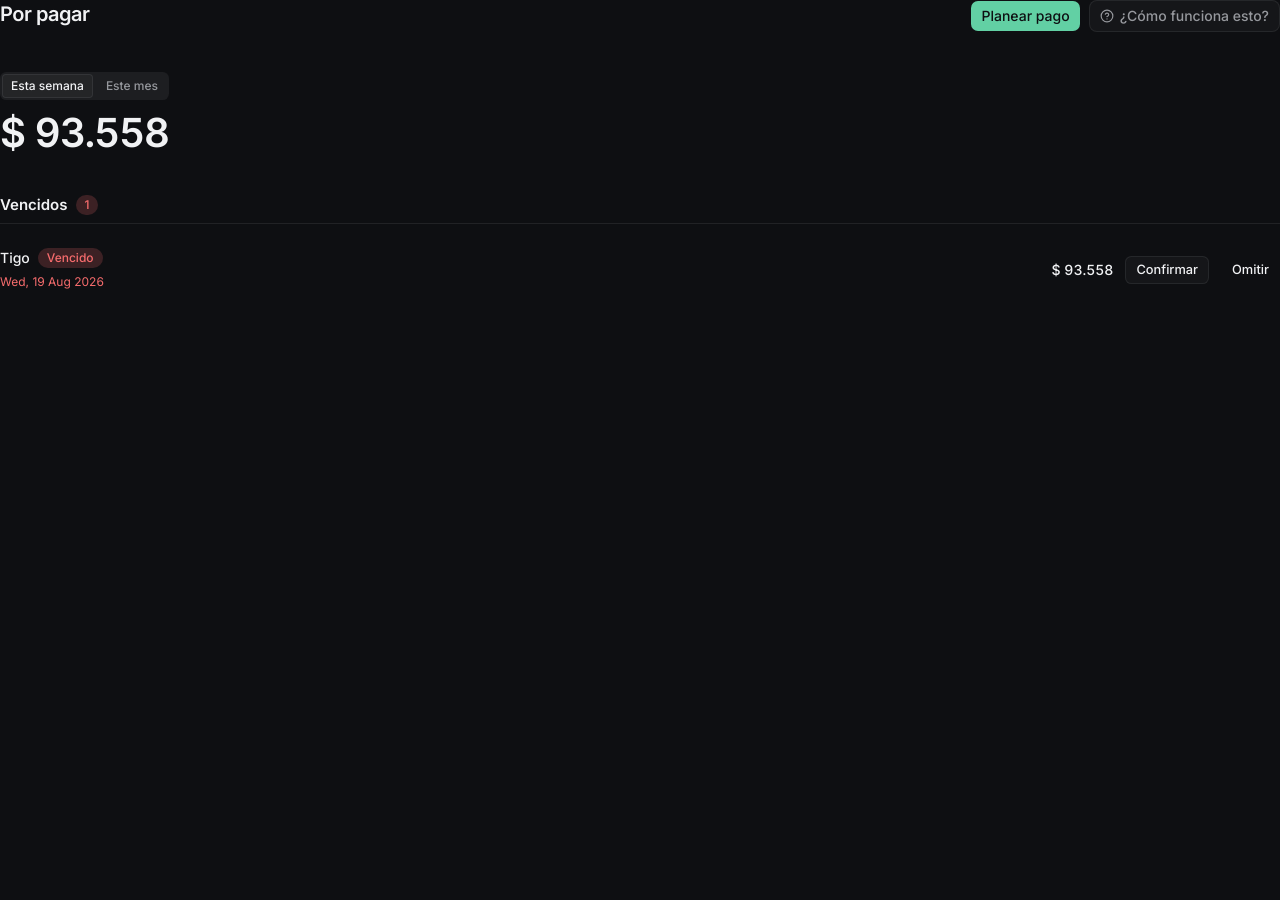
Test case: 012 — a currency passed through charges nothing › The figure comes back as the payment holds it after a trip through dollars
Click the button "Confirmar" at (1167, 270), box [1125,256,1209,284]
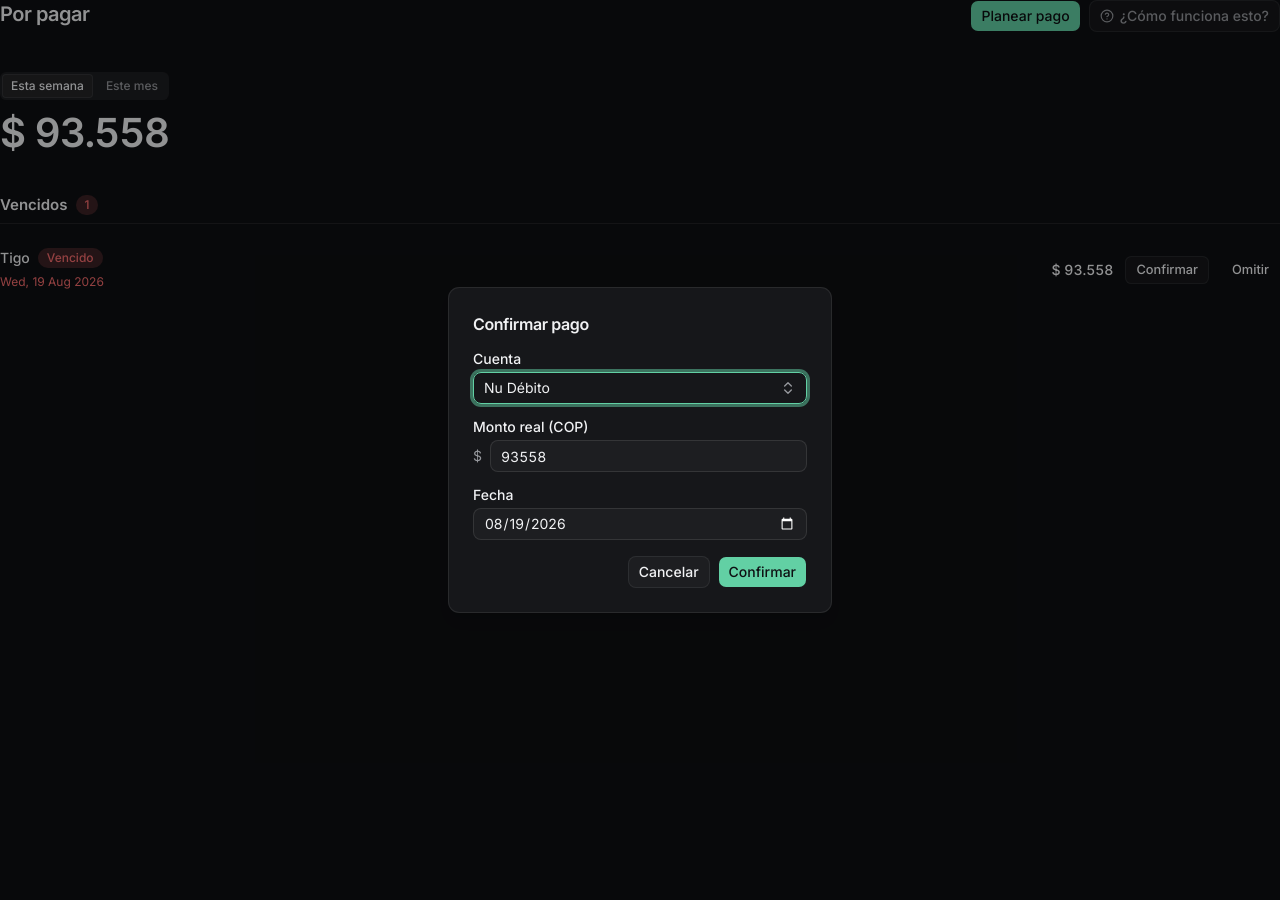
Result: the dropdown named "Cuenta" reads "Nu Débito"
Click the dropdown named "Cuenta" at (517, 388), box [473,372,807,404]
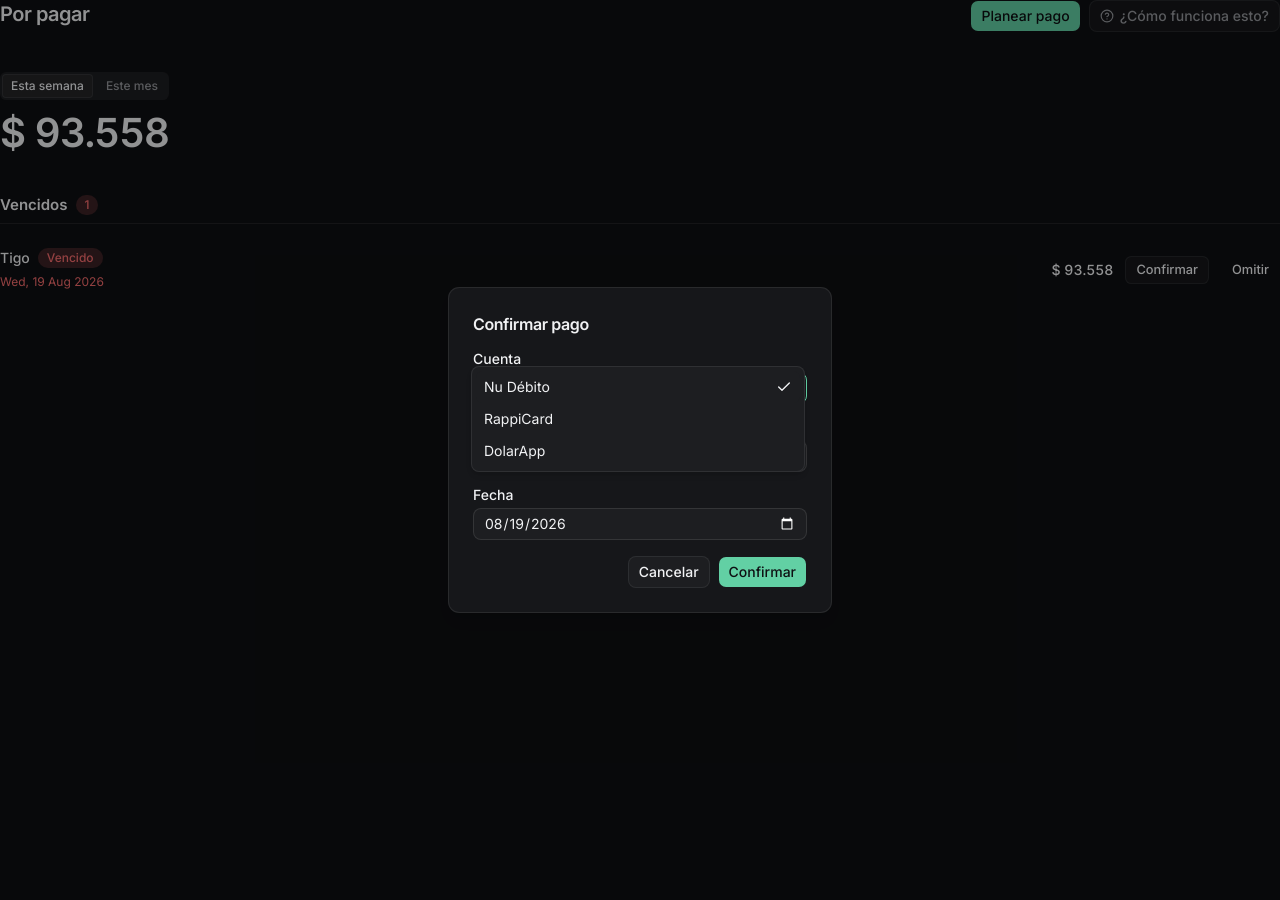
Click the option "DolarApp" at (515, 450), box [484,442,545,459]
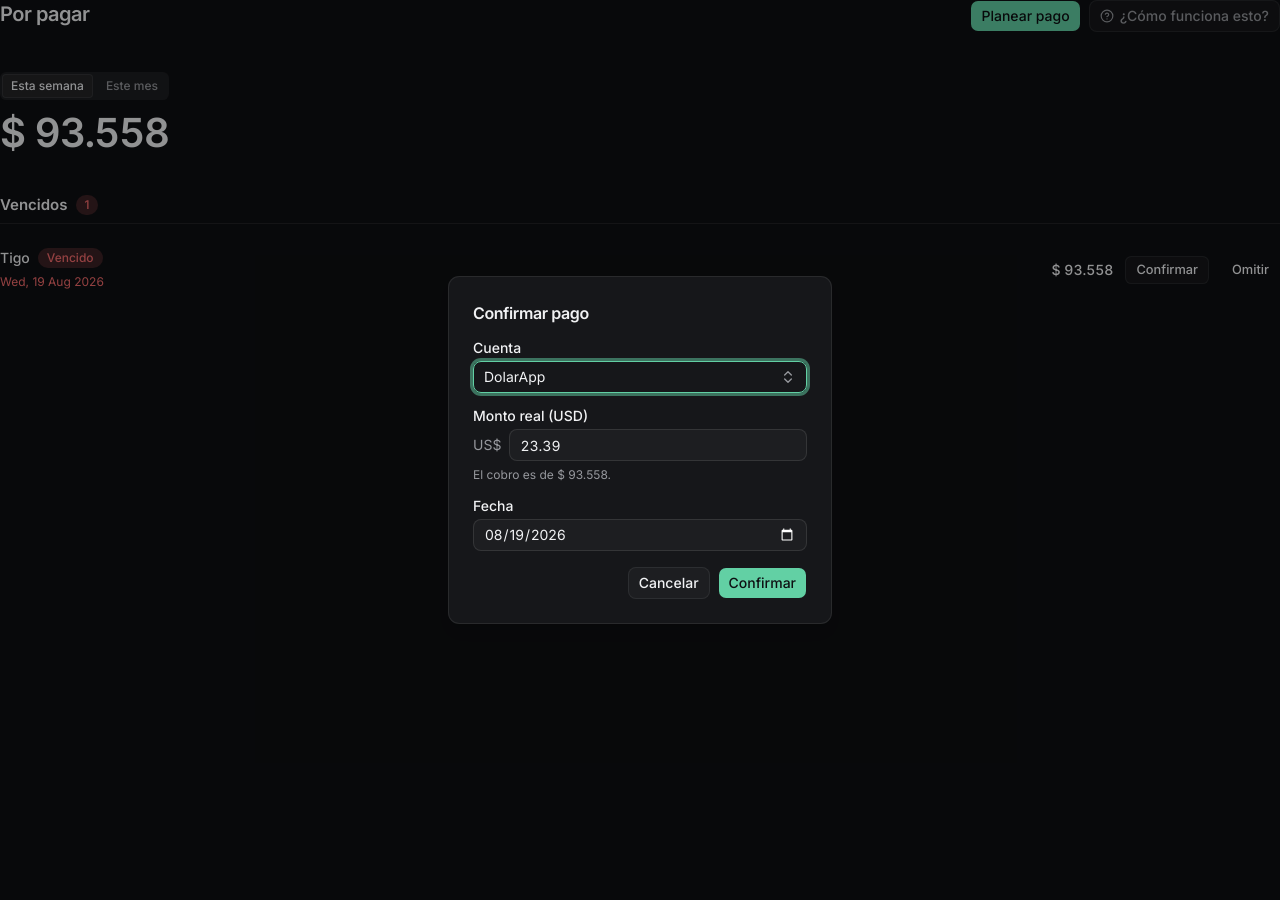
Result: the field labelled "Monto real (USD)" holds "23.39" at [509,429,807,461]
Click the dropdown named "Cuenta" at (515, 376), box [473,361,807,393]
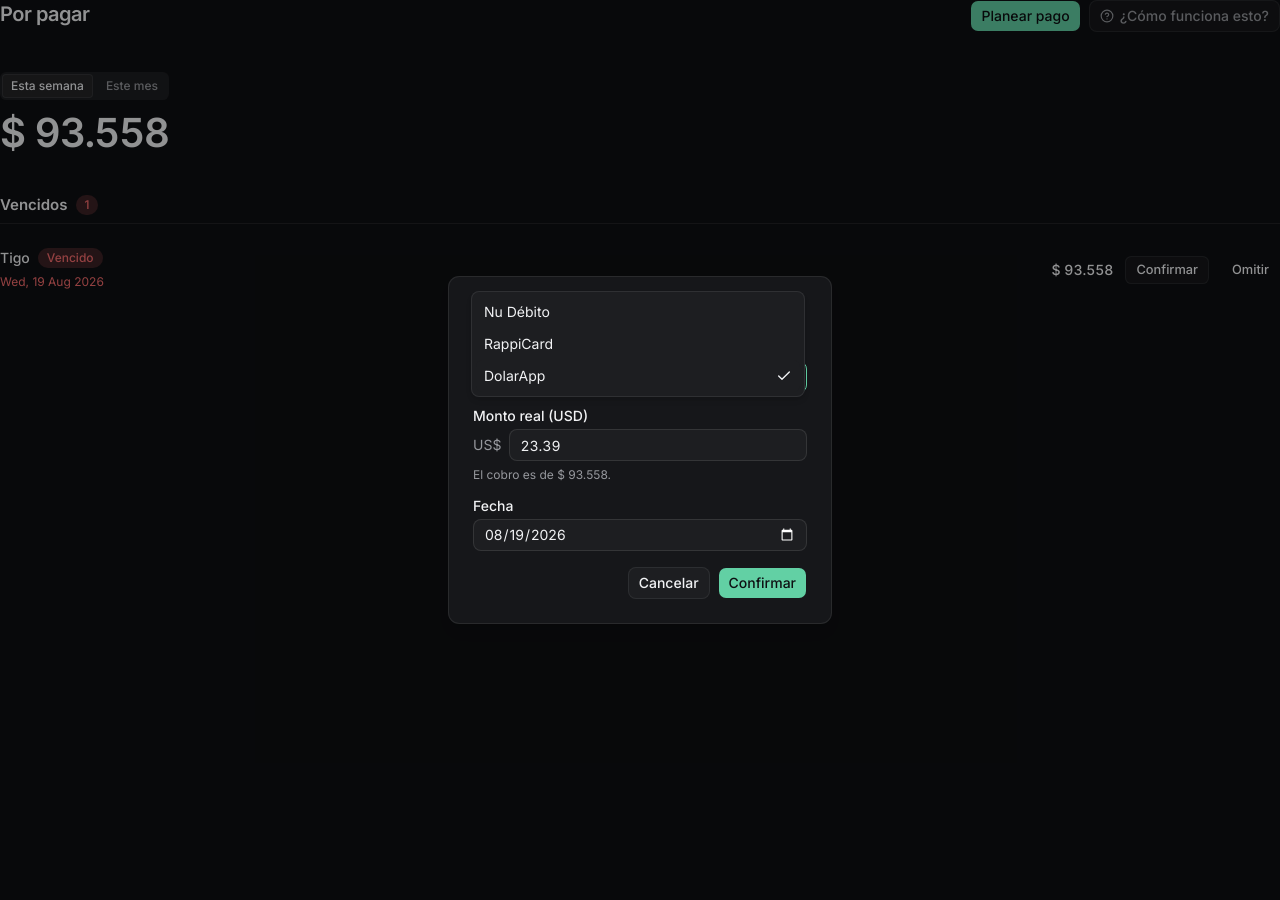
Click the option "Nu Débito" at (517, 312), box [484,303,550,320]
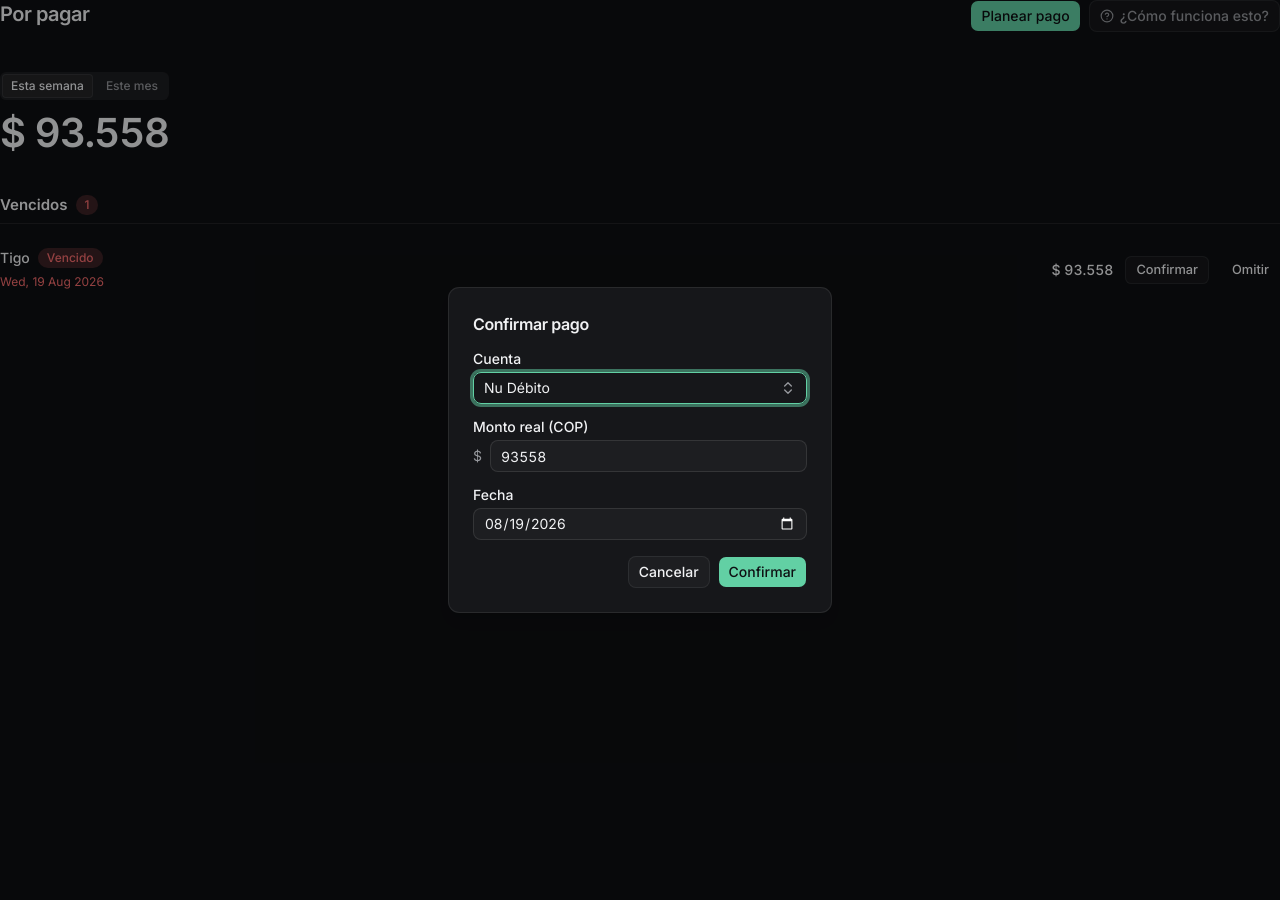
Result: the field labelled "Monto real (COP)" holds "93558" at [490,440,807,472]
